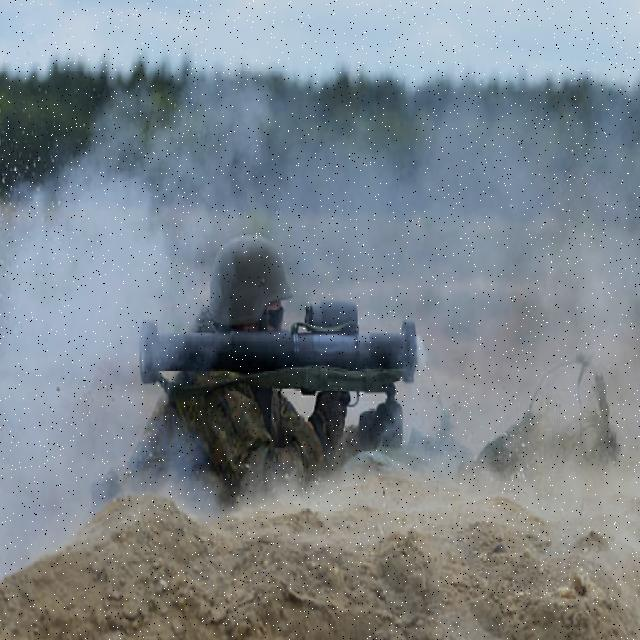bazooka: (133, 314, 433, 395)
